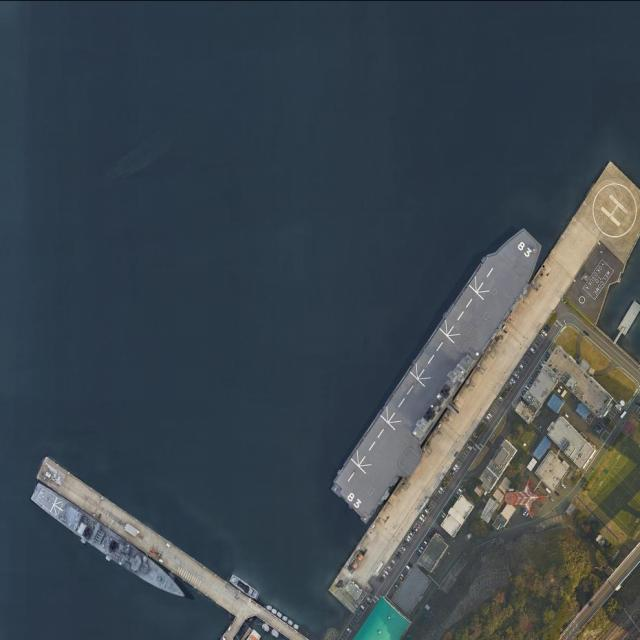Destroyer: (324, 218, 553, 520), (24, 480, 195, 608)
Dock: (32, 455, 248, 615)
